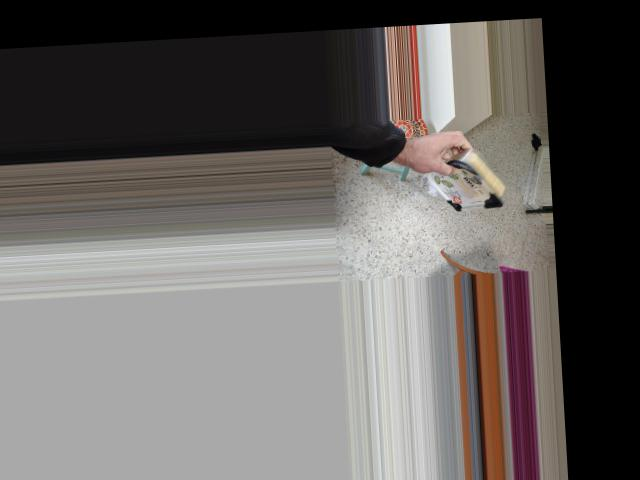cheese: (428, 121, 527, 236)
